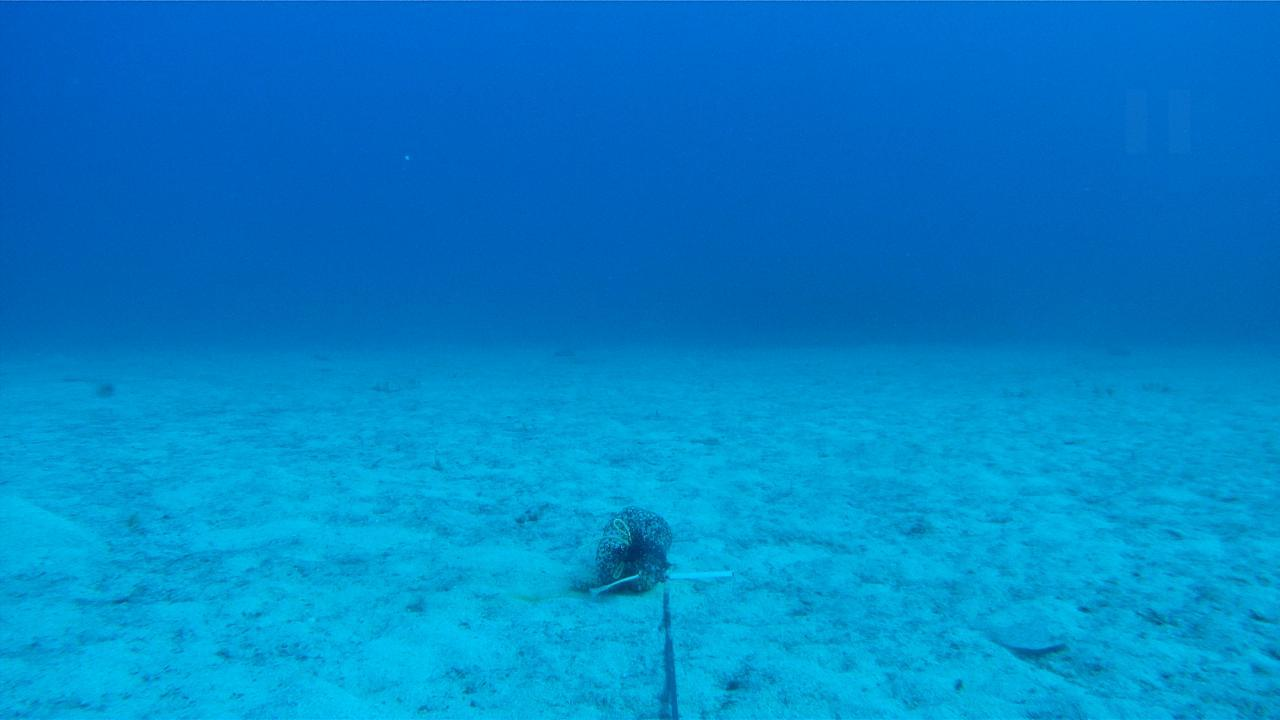bothus: (977, 618, 1069, 656)
